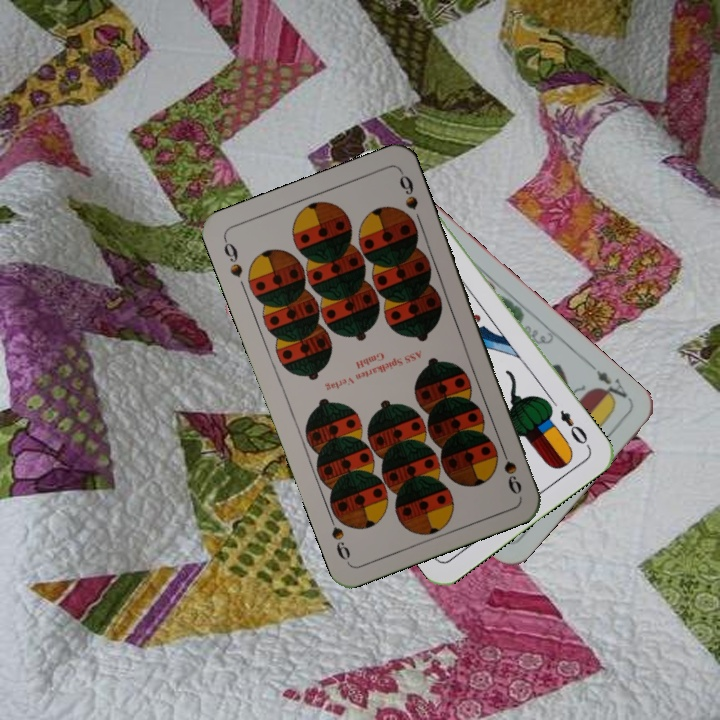EA: (587, 359, 630, 407)
EO: (556, 406, 592, 451)
S9: (495, 440, 525, 498), (219, 234, 245, 280)
